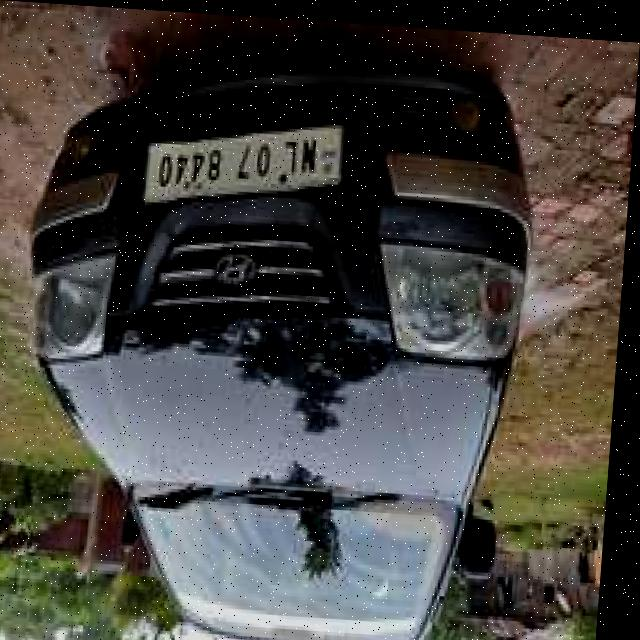plate: (145, 108, 349, 214)
